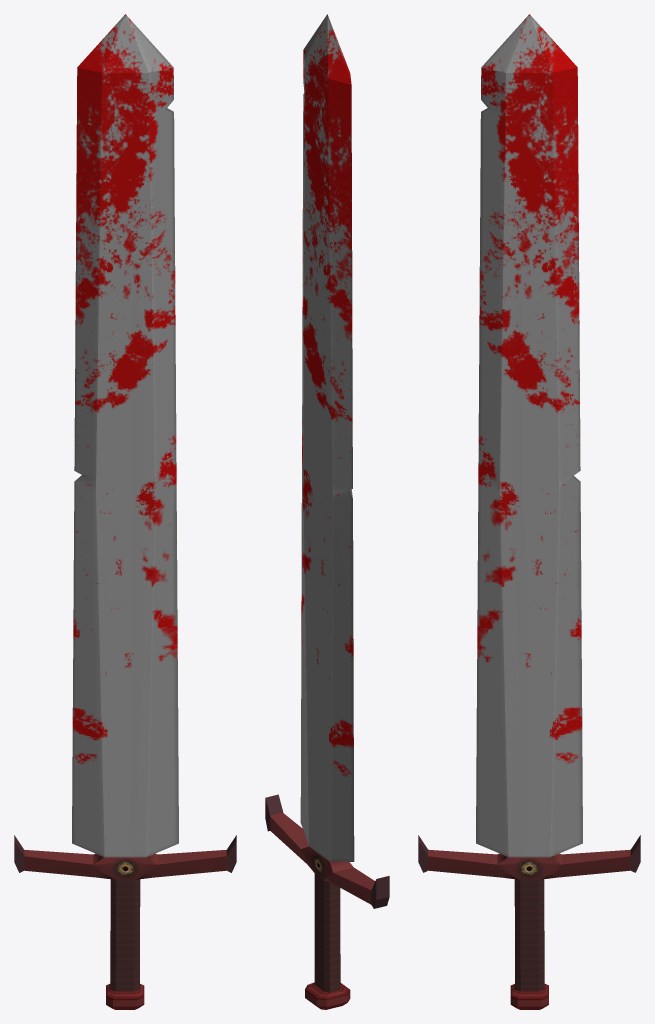
File: DEMON SWORD COOL! WOW EPIC!1 COOOL!.fbx
3 renders of one model, left to right at view 1: azimuth 90°, elevation 25°; view 2: azimuth 210°, elevation 25°; view 3: azimuth 270°, elevation 25°, orthographic.
Visible parts, largest first — view 1: pCube1; view 2: pCube1; view 3: pCube1.
Part boxes in pixels (x1,y1,x2,y2): pCube1: [14, 14, 236, 1009]; pCube1: [265, 14, 389, 1009]; pCube1: [418, 14, 640, 1009].
Size of the model in its own units: 0.8006 by 22.83 by 4.65.
Materials: 1 (1 with a texture image).
